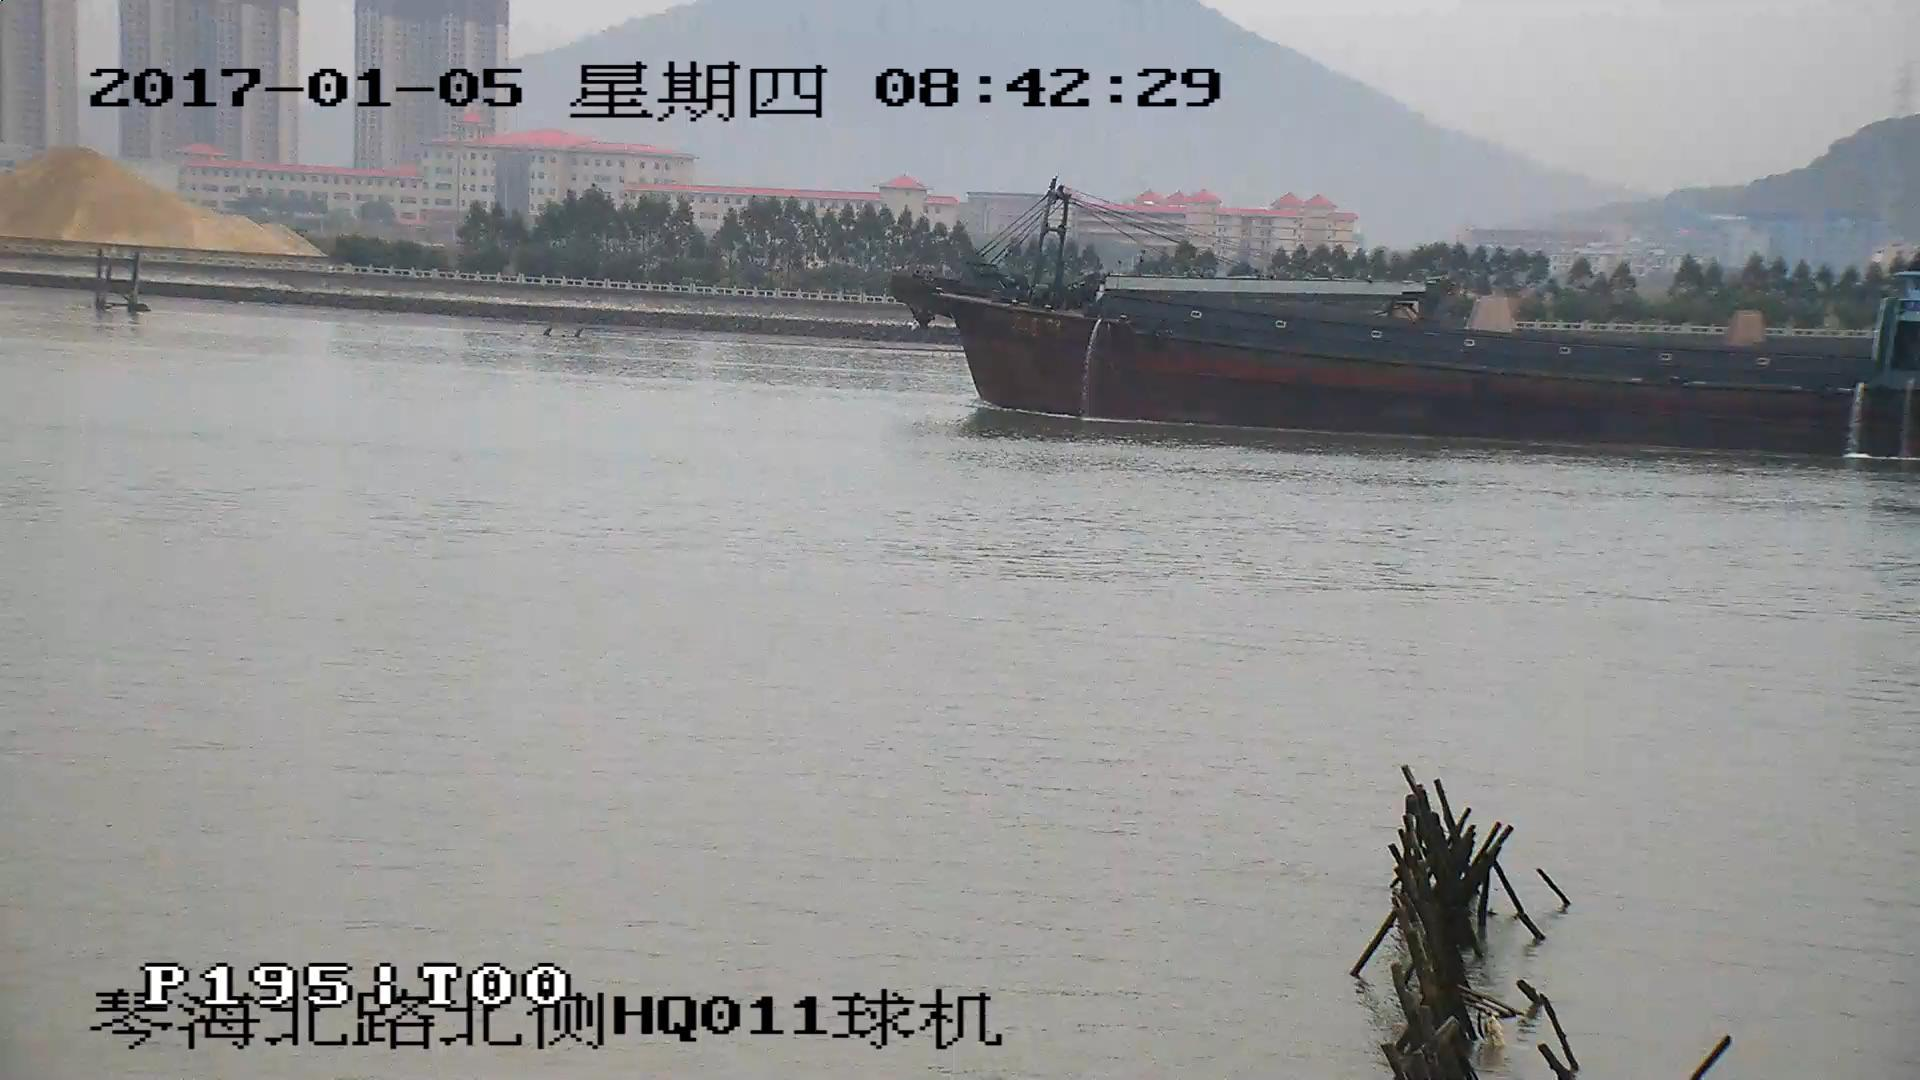Ship: (891, 181, 1920, 462)
